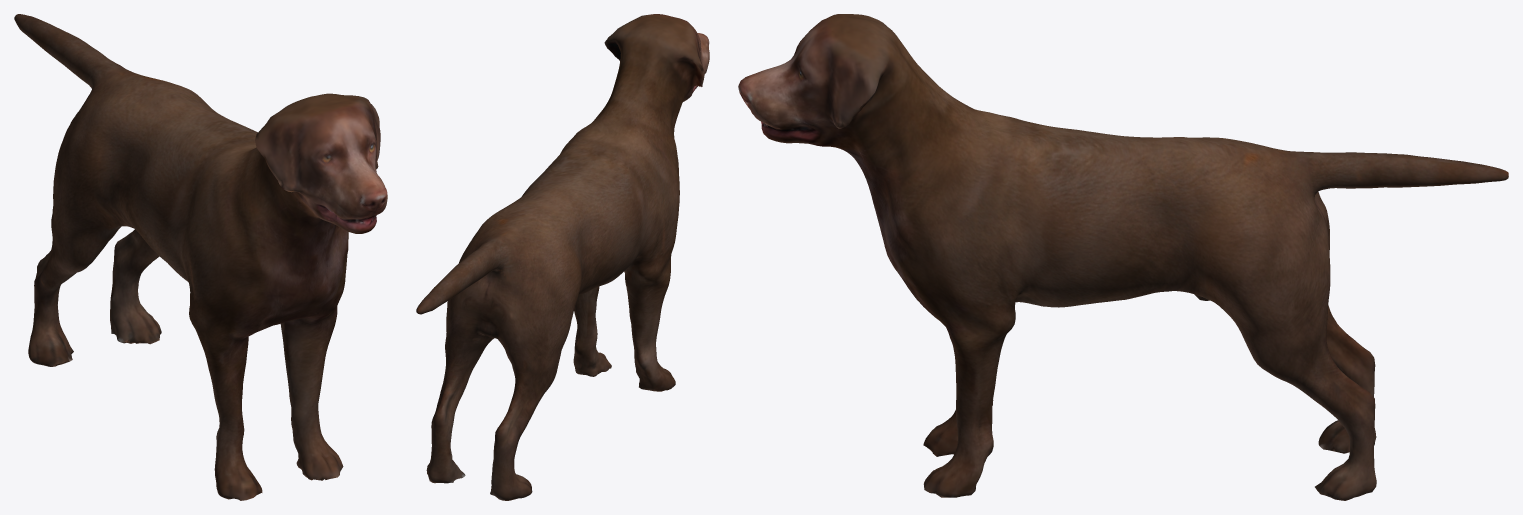
Rendered from brown_labrador_retriever_v1.glb.
The picture shows the model from 3 angles, left to right: view 1: azimuth 30°, elevation 25°; view 2: azimuth 150°, elevation 25°; view 3: azimuth 270°, elevation 25°; orthographic projection. The views are drawn at different scales.
Parts seen in each view (by area): view 1: V2; view 2: V2; view 3: V2.
Part boxes in pixels (x1,y1,x2,y2): V2: (14, 14, 387, 500); V2: (416, 14, 709, 500); V2: (738, 14, 1508, 500).
Size of the model in its own units: 0.3034 by 0.8502 by 1.34.
Materials: 1 (1 with a texture image).
